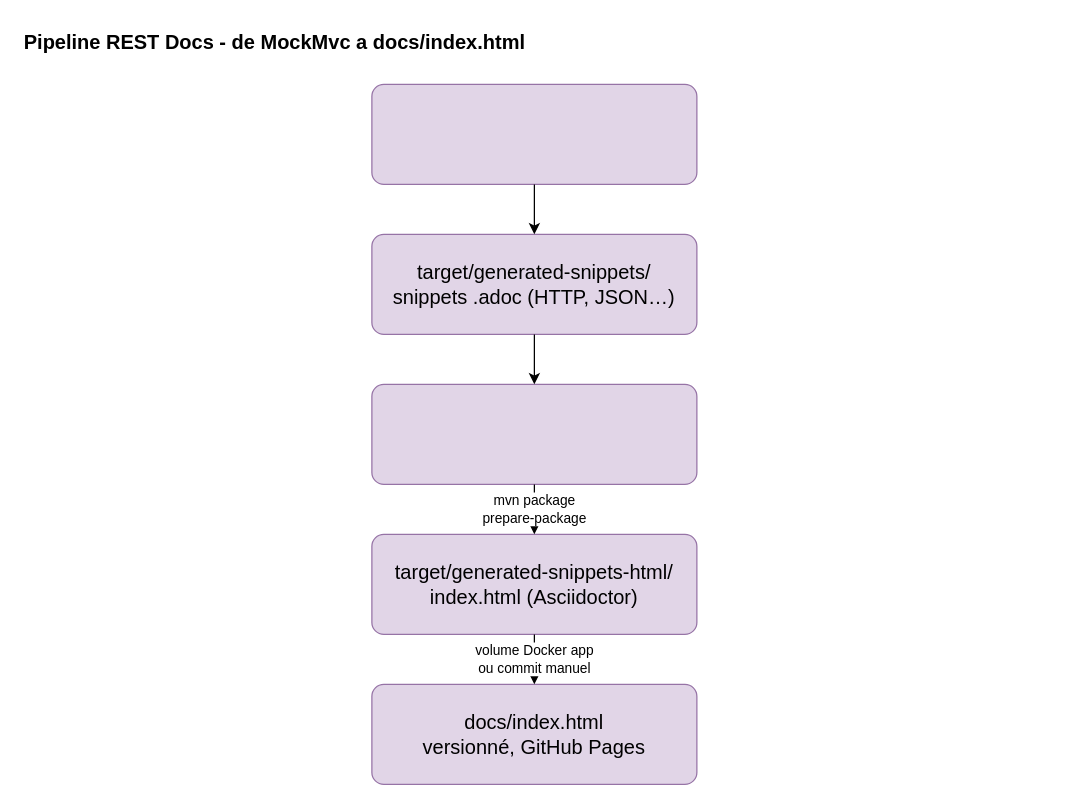
Image size: 1068x806. Some labels were removed from this diagram. The shapes that lost their labels are listed below. From the top down, each one's centre as x and y in pixels, then its label:
the point at 534,133: Tests d'intégration (MockMvc)
the point at 534,433: src/asciidoc/index.adoc modèle + include::{snippets}
